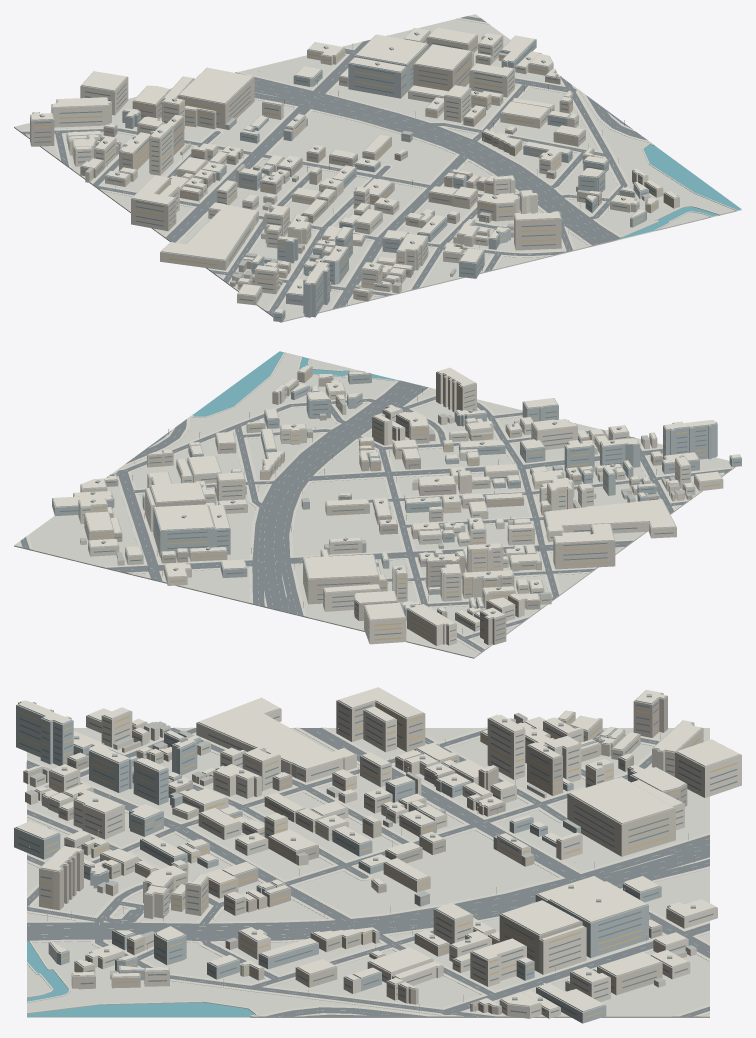
The picture shows the model from 3 angles, top to bottom: view 1: azimuth 30°, elevation 25°; view 2: azimuth 150°, elevation 25°; view 3: azimuth 270°, elevation 25°; orthographic projection. The views are drawn at different scales.
Visible parts, largest first — view 1: city; view 2: city; view 3: city.
Boxes of the visible parts, box(x1,y1,x2,y2) form: city: box(14, 14, 741, 322); city: box(14, 351, 741, 658); city: box(14, 687, 741, 1023).
Bounding box in the file's own units: 544 × 40.85 × 533.
